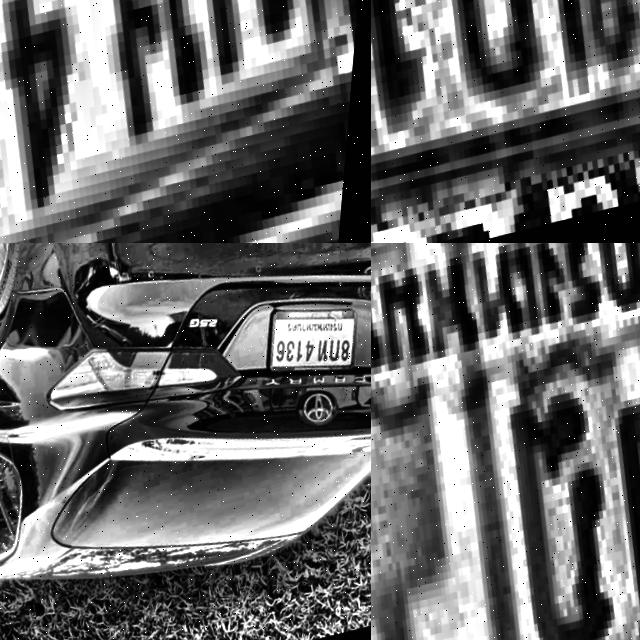license-plate: (371, 243, 640, 640), (0, 0, 371, 243), (371, 0, 640, 243), (258, 291, 371, 396)
